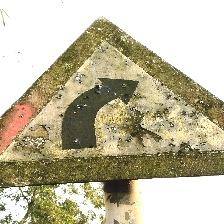Right-turn: (0, 16, 221, 185)
